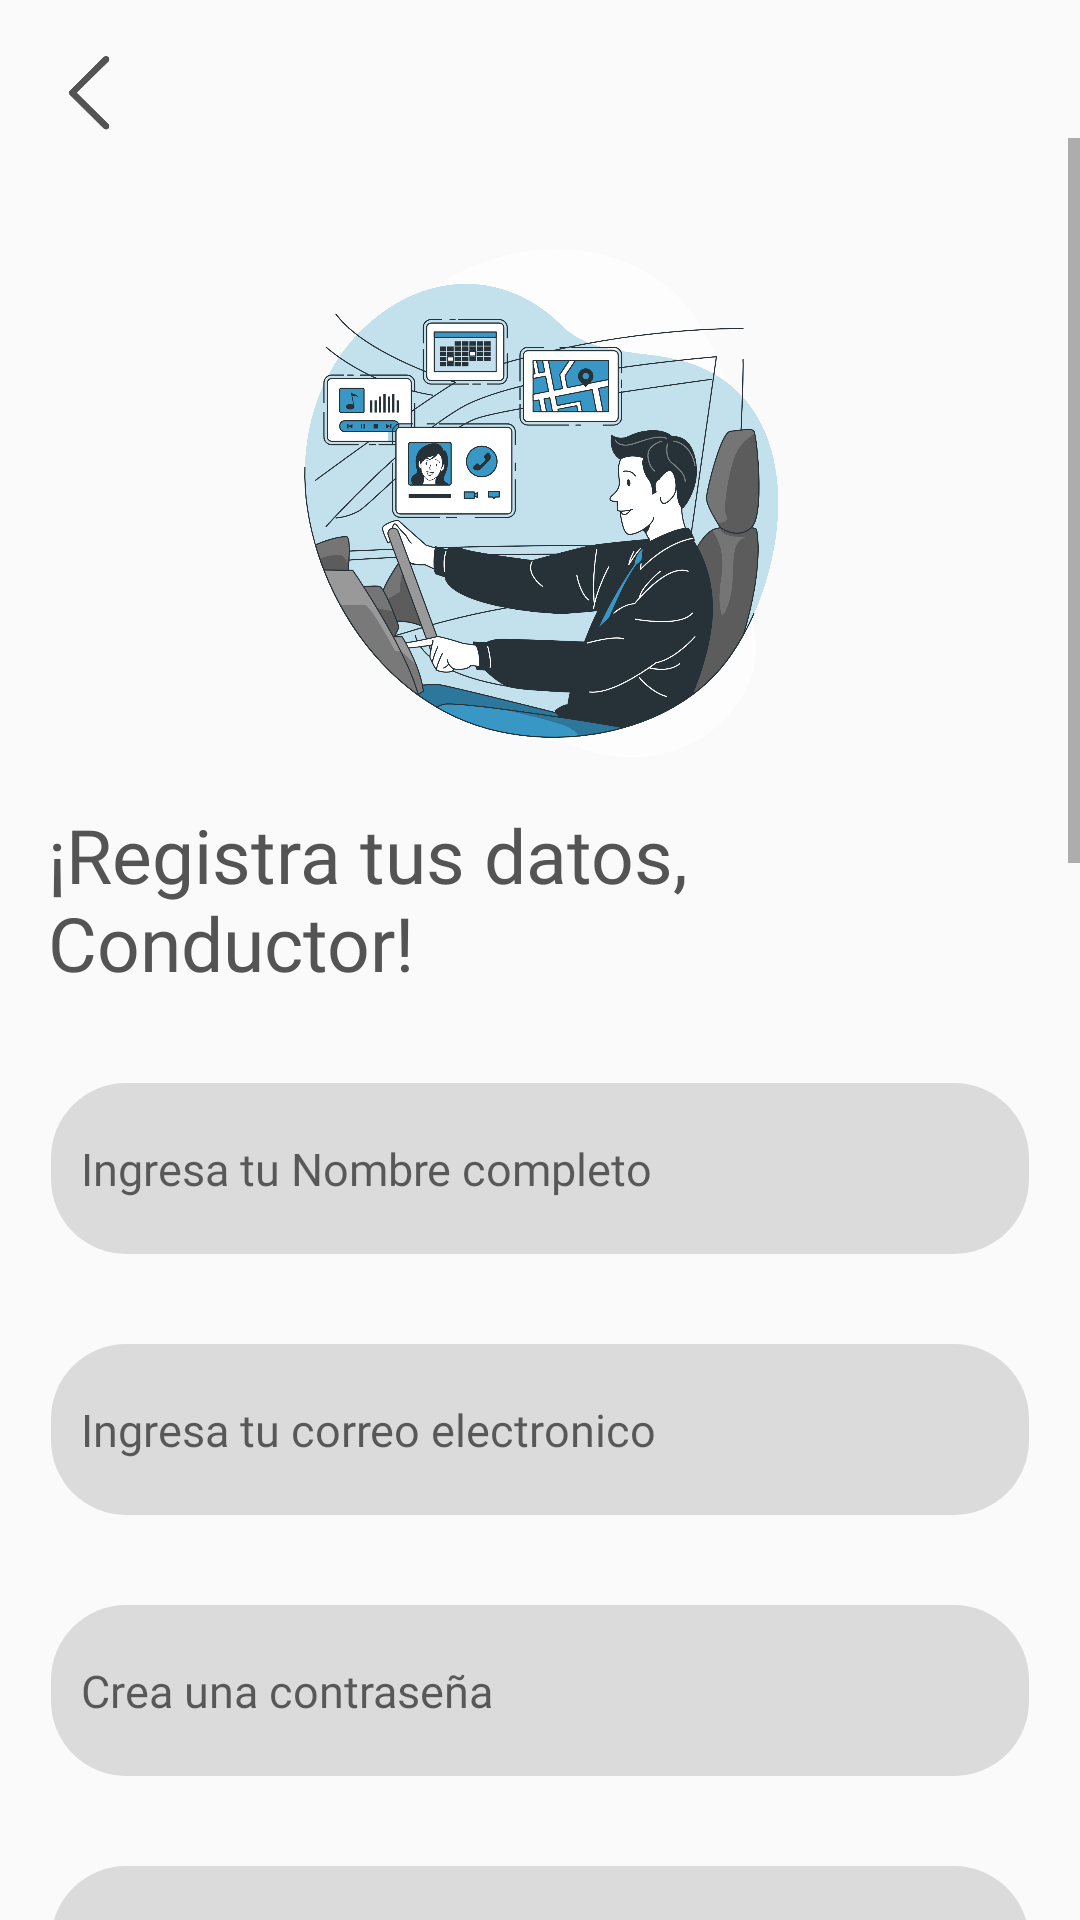

Point at icon controls on the screen. Image size 1080px×1920px, points as [x,y].
back arrow: [89,93]
